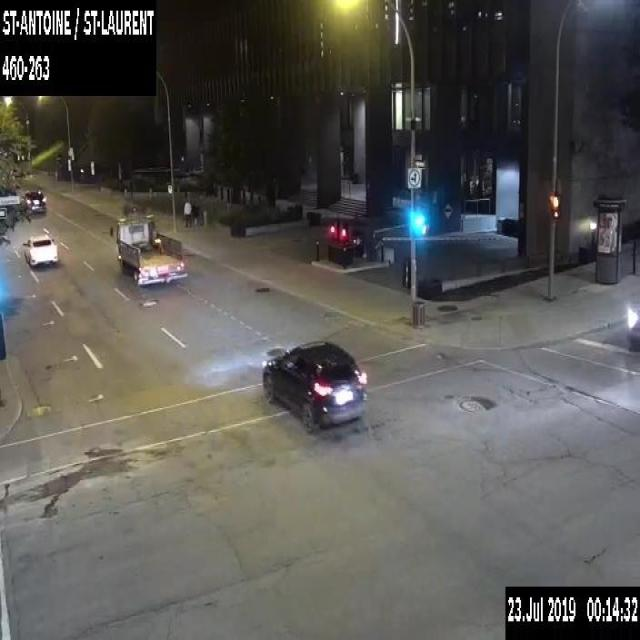pedestrian: (182, 196, 191, 228), (191, 199, 199, 224)
vehicle: (260, 337, 366, 432), (109, 212, 189, 287), (22, 232, 58, 268), (626, 291, 639, 349), (20, 189, 44, 213)
